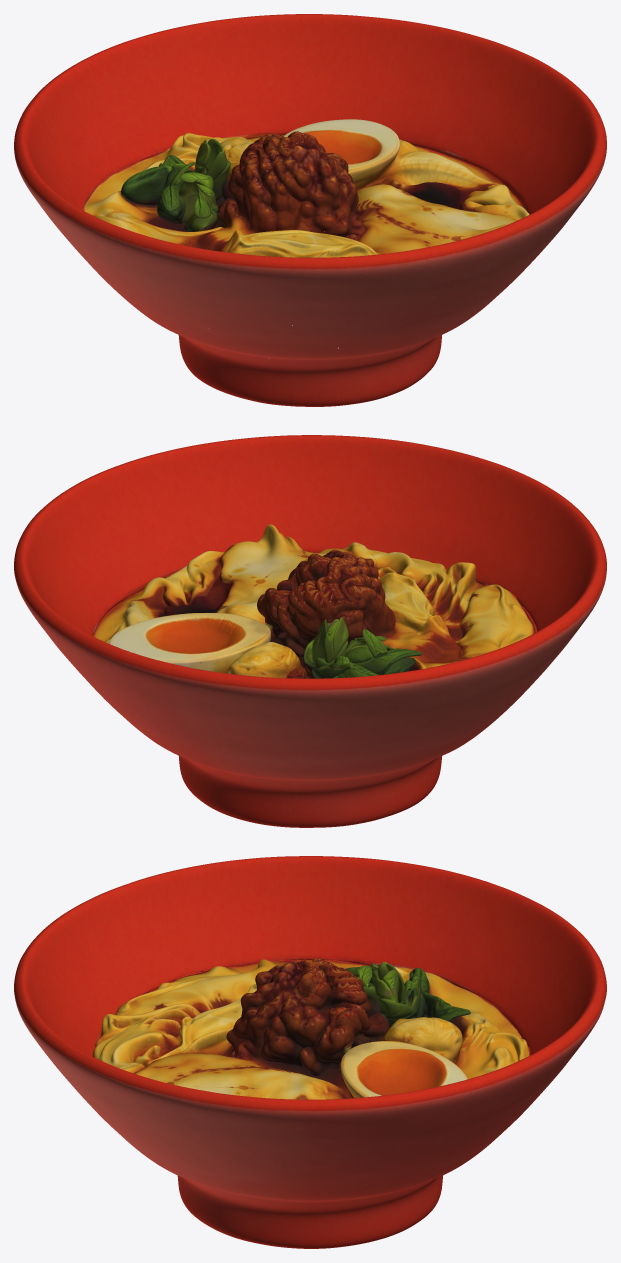
The model's file is KaramisoRamen.glb.
The picture shows the model from 3 angles, top to bottom: view 1: azimuth 30°, elevation 25°; view 2: azimuth 150°, elevation 25°; view 3: azimuth 270°, elevation 25°; orthographic projection.
Parts seen in each view (by area): view 1: tripo_node_1477228b-4883-45ae-80c3-8b4e8d632b19; view 2: tripo_node_1477228b-4883-45ae-80c3-8b4e8d632b19; view 3: tripo_node_1477228b-4883-45ae-80c3-8b4e8d632b19.
Part boxes in pixels (box(x1,y1,x2,y2)): tripo_node_1477228b-4883-45ae-80c3-8b4e8d632b19: box(14, 14, 606, 406); tripo_node_1477228b-4883-45ae-80c3-8b4e8d632b19: box(14, 435, 606, 827); tripo_node_1477228b-4883-45ae-80c3-8b4e8d632b19: box(14, 856, 606, 1248).
Bounding box in the file's own units: 0.2938 × 0.1226 × 0.2936.
1 material, 1 textured.
